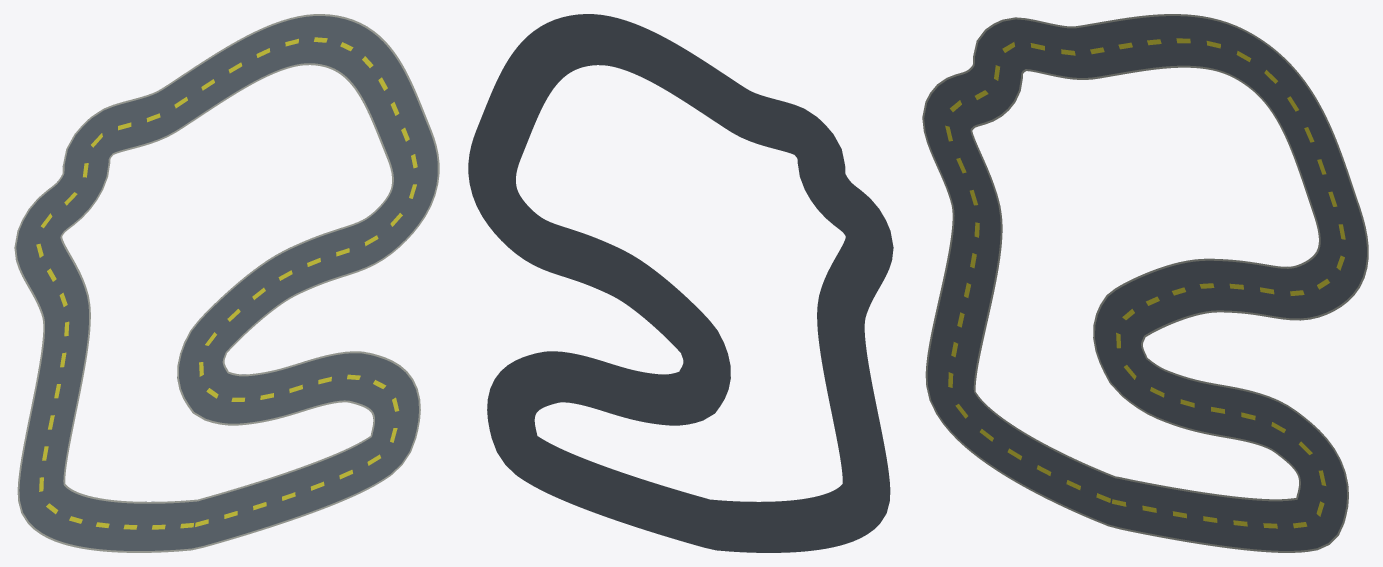
The model's file is track.obj.
3 renders of one model, left to right at view 1: azimuth 30°, elevation 25°; view 2: azimuth 150°, elevation 25°; view 3: azimuth 330°, elevation 25°, orthographic. The views are drawn at different scales.
Bounding box in the file's own units: 9.53 × 10.89 × 0.002.
